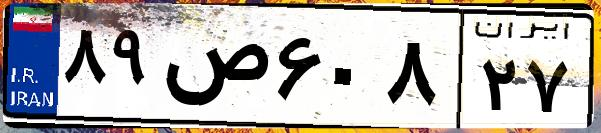0: (330, 28, 385, 110)
2: (475, 38, 525, 113)
6: (270, 28, 330, 110)
7: (525, 38, 570, 115)
8: (385, 28, 445, 110), (57, 26, 110, 100)
9: (110, 28, 158, 98)
ص: (158, 20, 270, 120)
